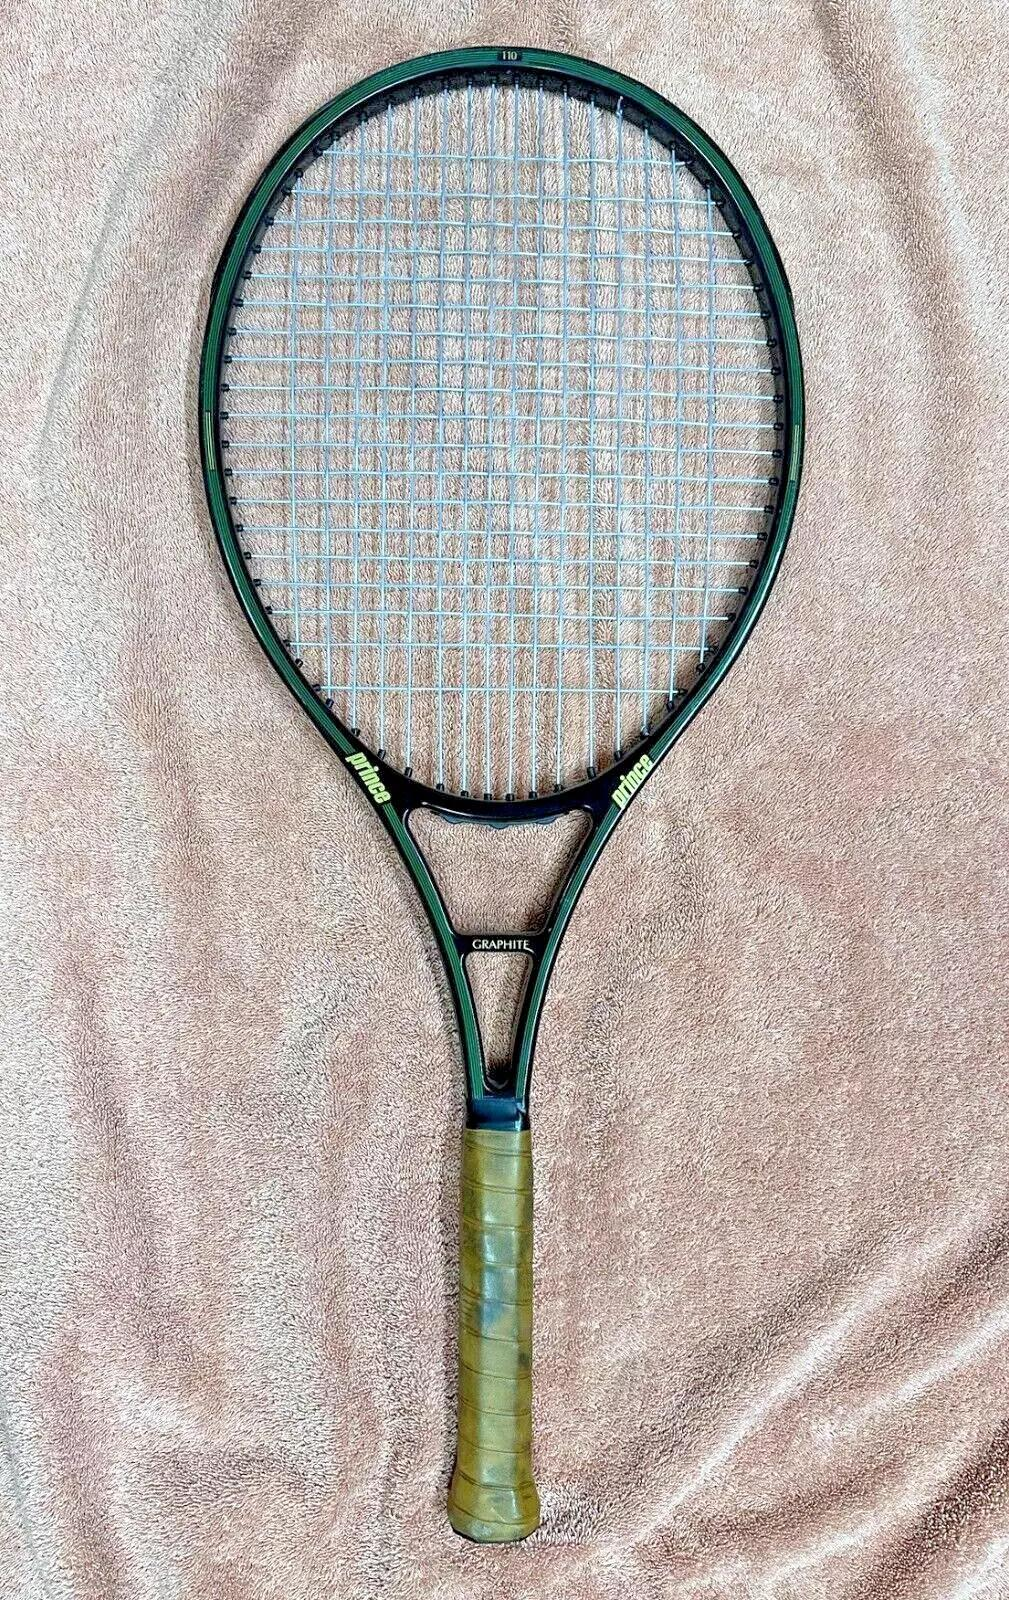Tennis-Racket: (200, 46, 803, 1544)
